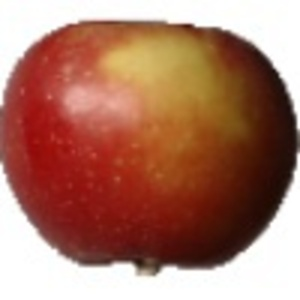maçã braeburn: (1, 19, 299, 269)
